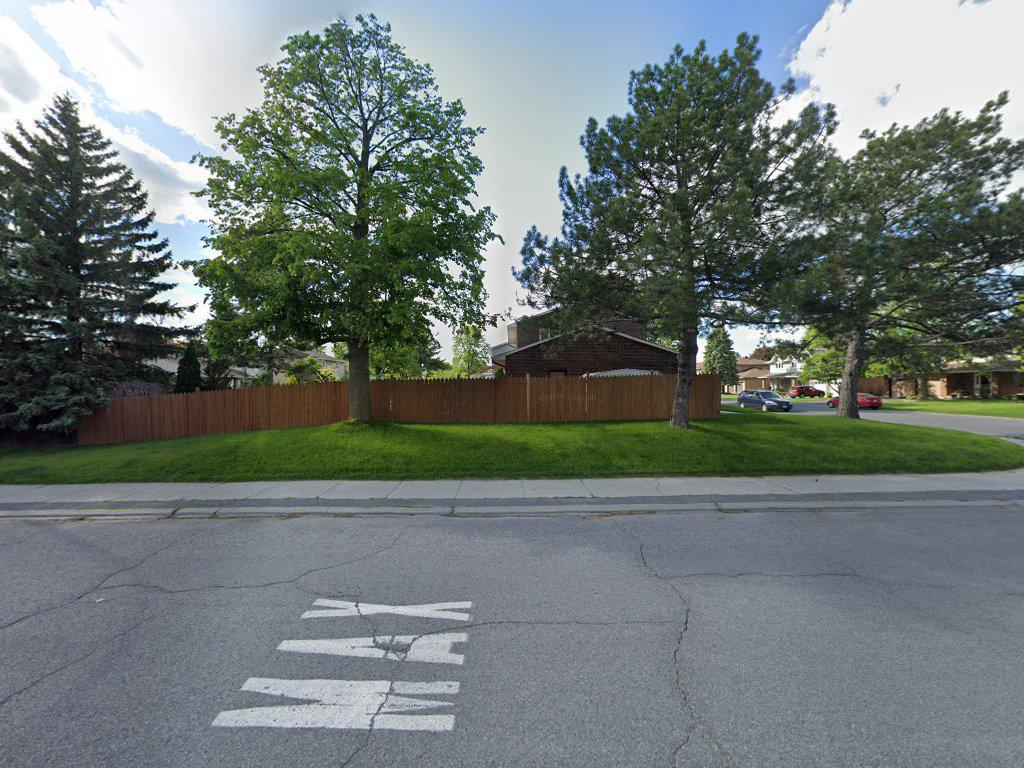trunk: (341, 334, 374, 439), (669, 333, 700, 435), (839, 335, 865, 422)
